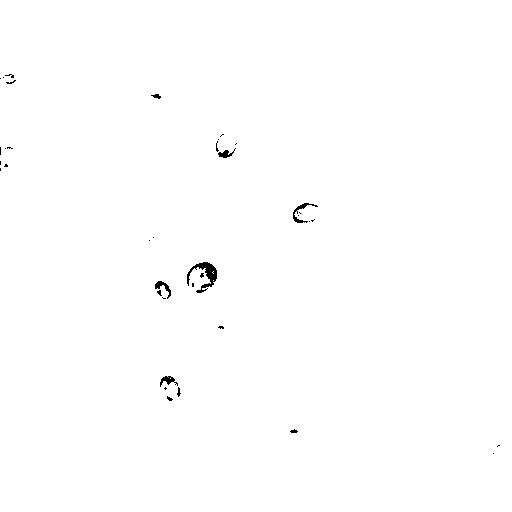micro-algae: (271, 415, 313, 450), (141, 221, 173, 259), (185, 261, 219, 295), (214, 129, 239, 161), (159, 374, 182, 403), (1, 145, 24, 173), (293, 201, 321, 223), (277, 219, 299, 244), (155, 281, 173, 301), (491, 439, 511, 456), (186, 156, 197, 173), (1, 72, 16, 84)
